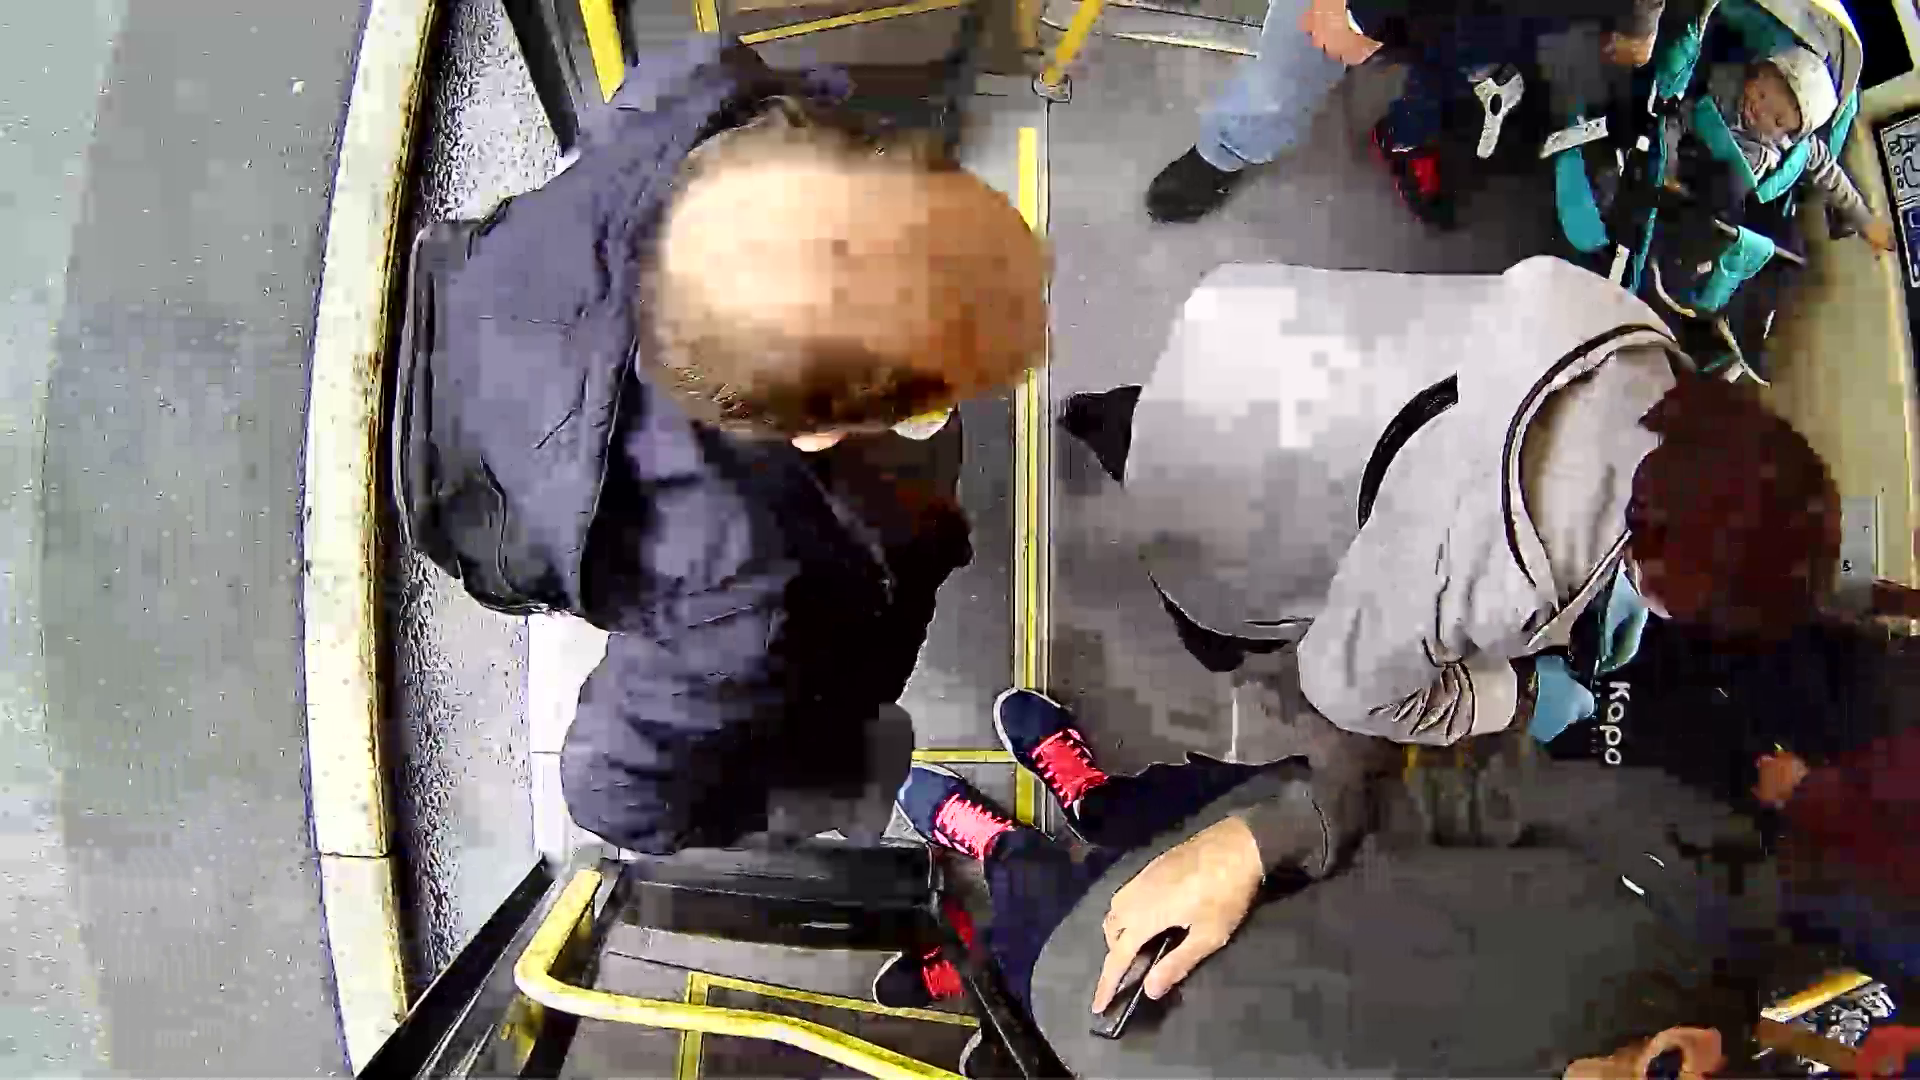person: (365, 77, 1089, 867), (1116, 206, 1866, 783)
